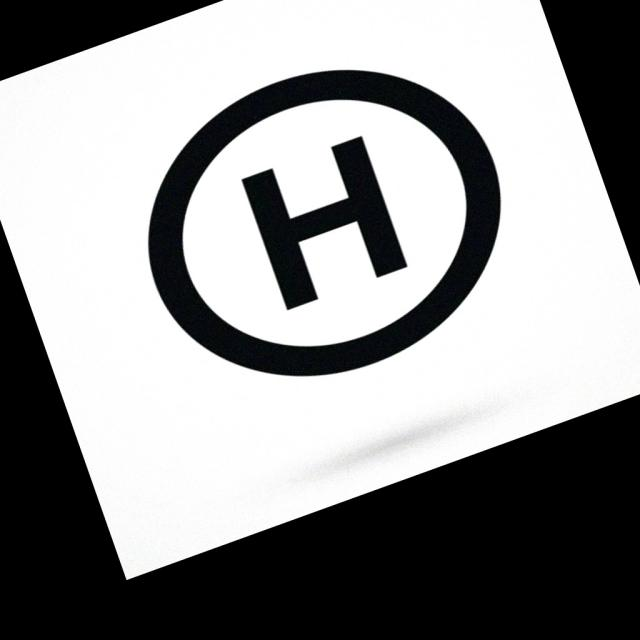helipad: (140, 65, 502, 377)
